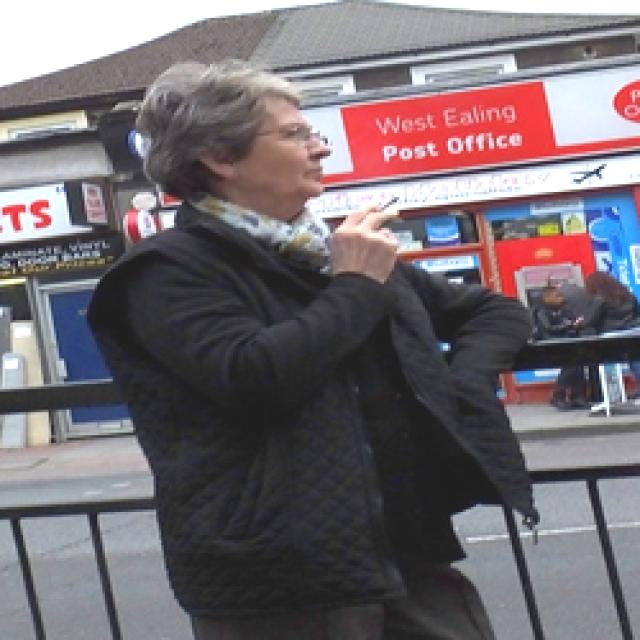Smooking: (376, 187, 399, 216)
